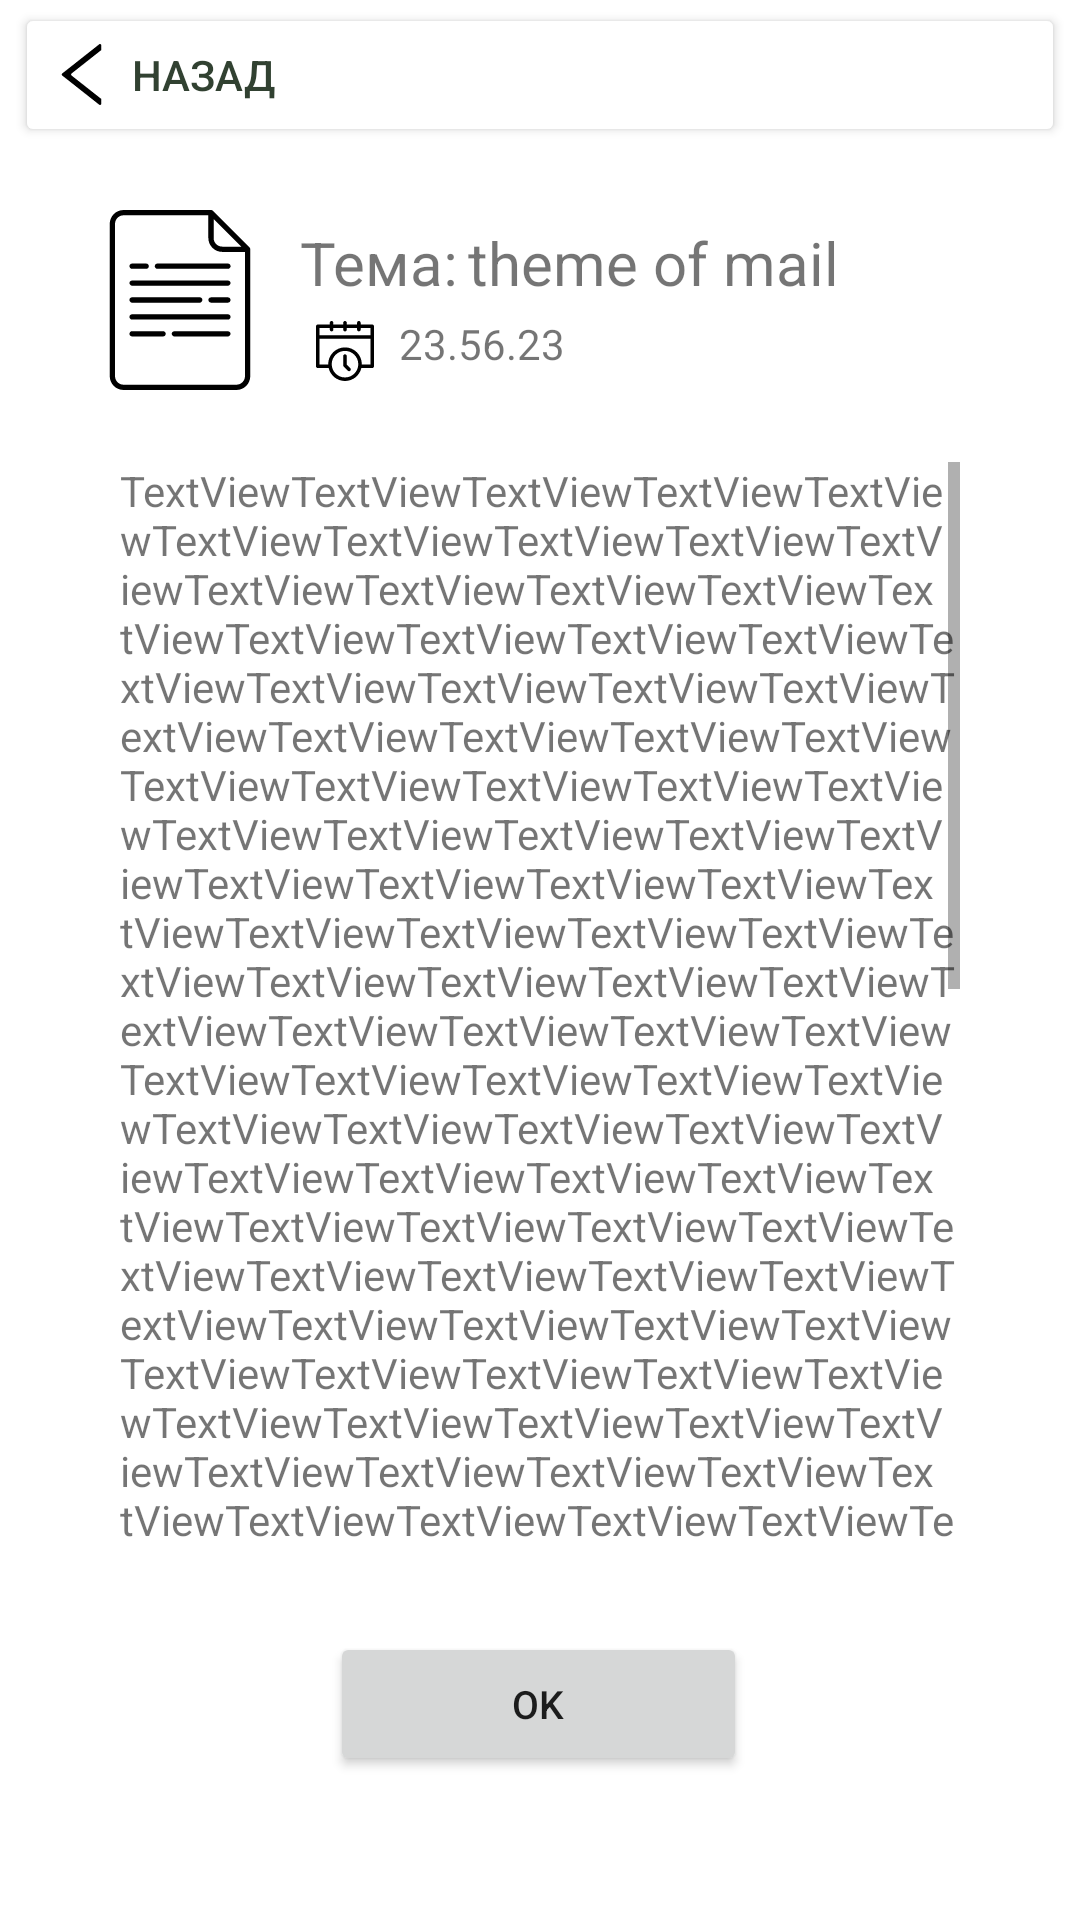

Named icons in this screenshot (1080 x 1920) and their centers, (x,y):
clock: (345,351)
document: (180,300)
